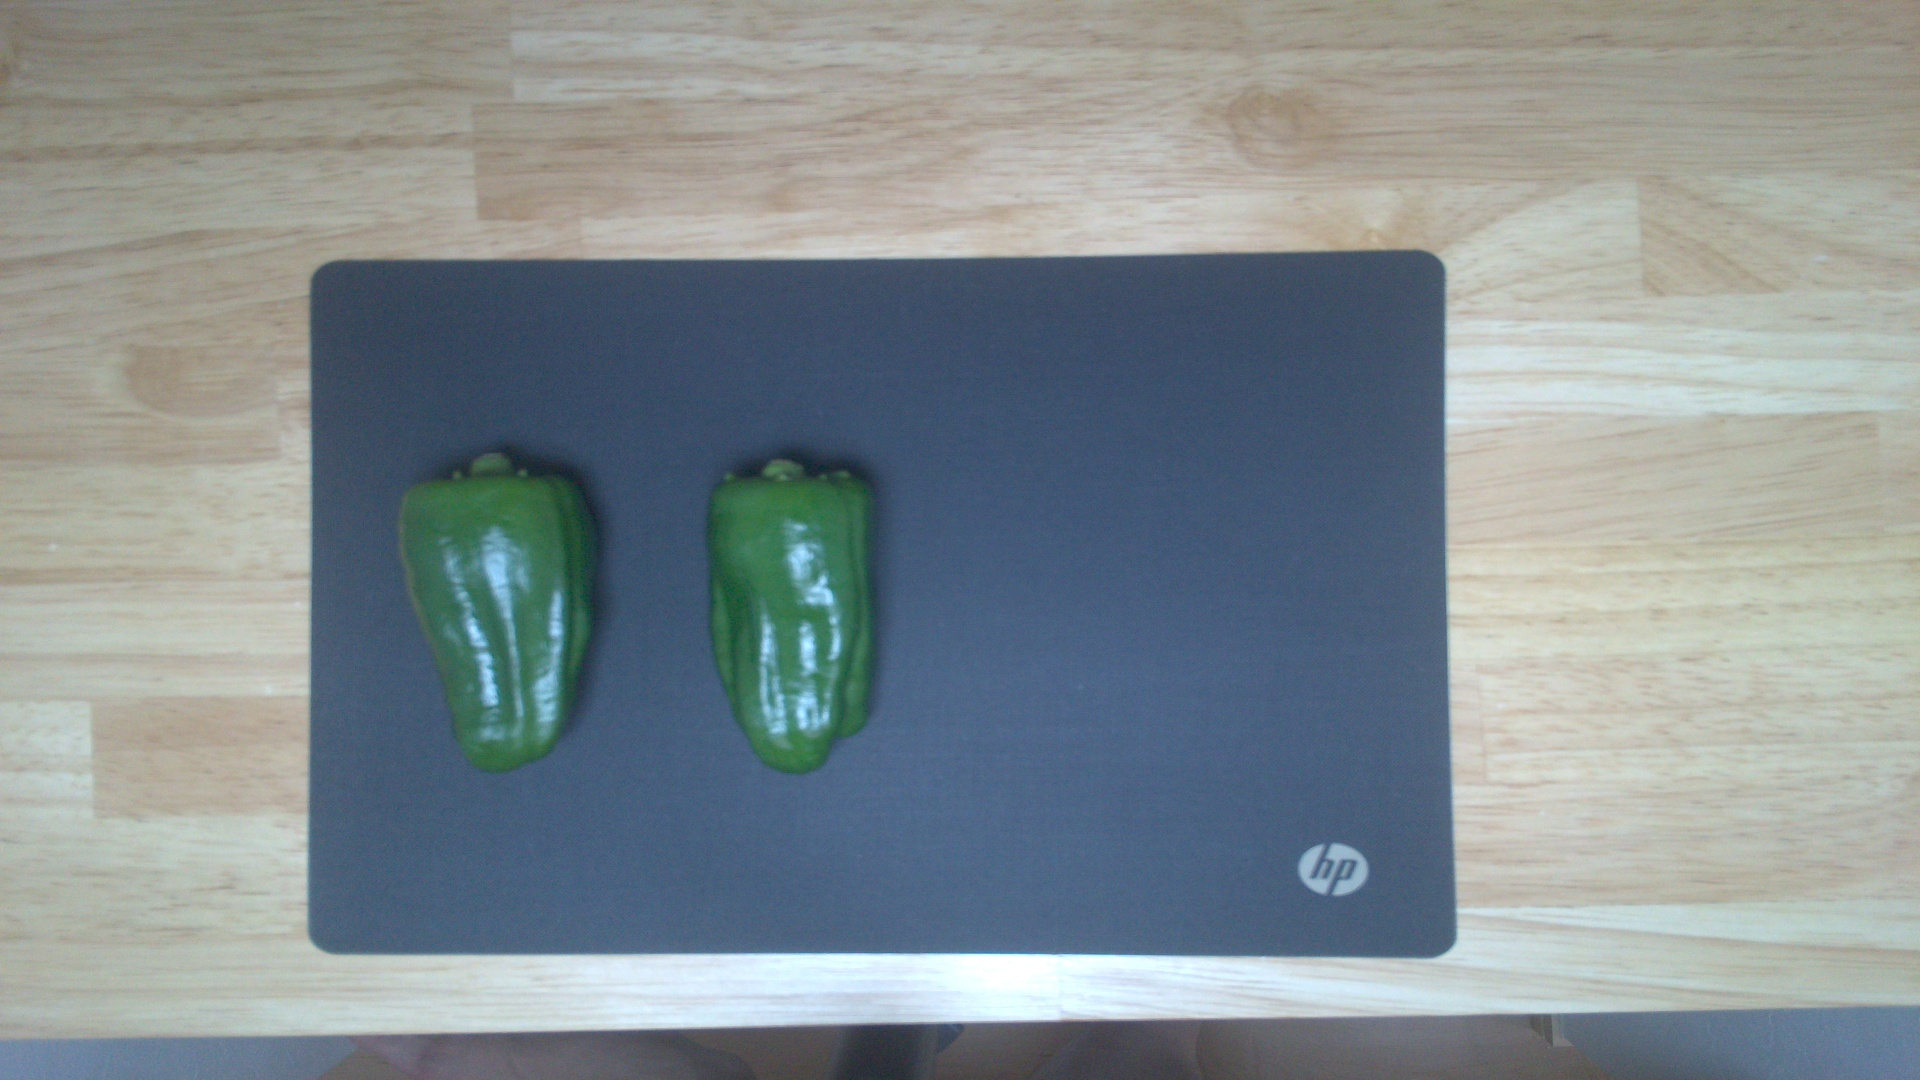Piman: (396, 448, 603, 771), (705, 458, 884, 778)
